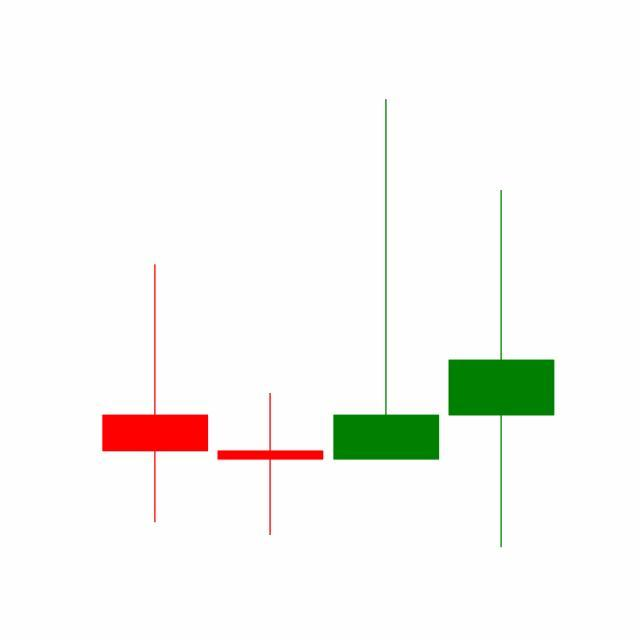Spinning Top: (444, 187, 560, 552)
